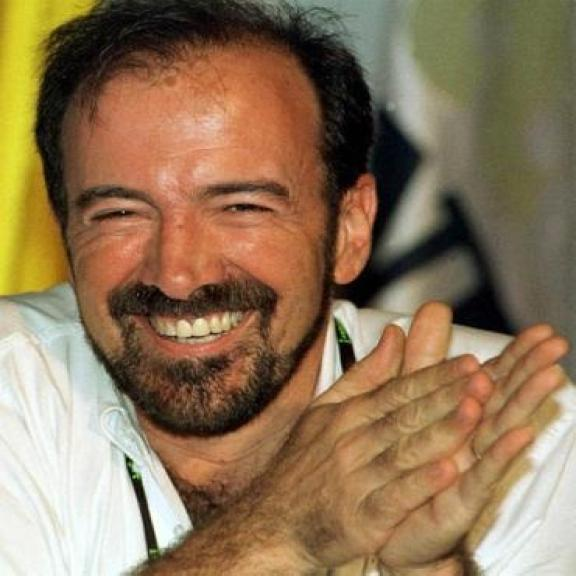face: (42, 33, 386, 441)
